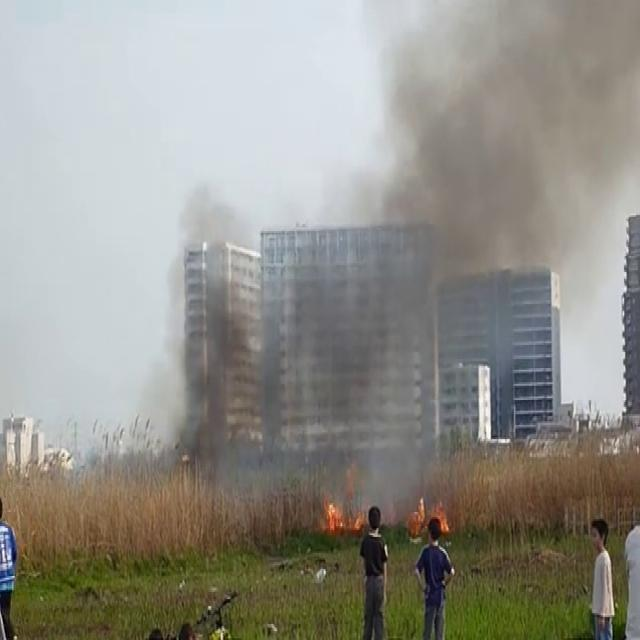Fire: (322, 494, 352, 538)
Smoke: (54, 2, 634, 496)
